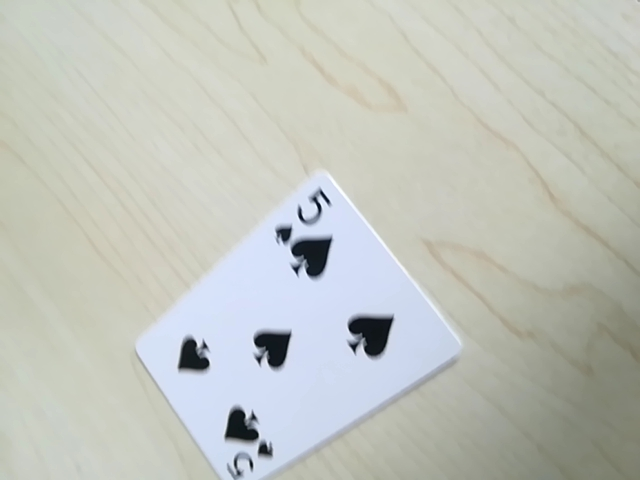ht 5: (274, 183, 333, 248), (217, 435, 273, 480)
